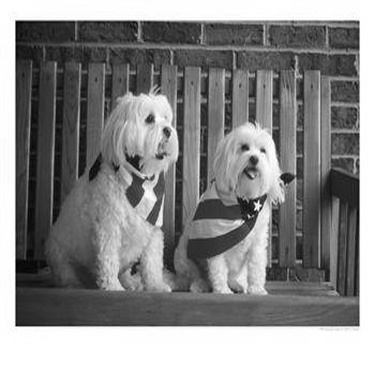dog: (19, 81, 184, 301), (153, 116, 289, 302)
